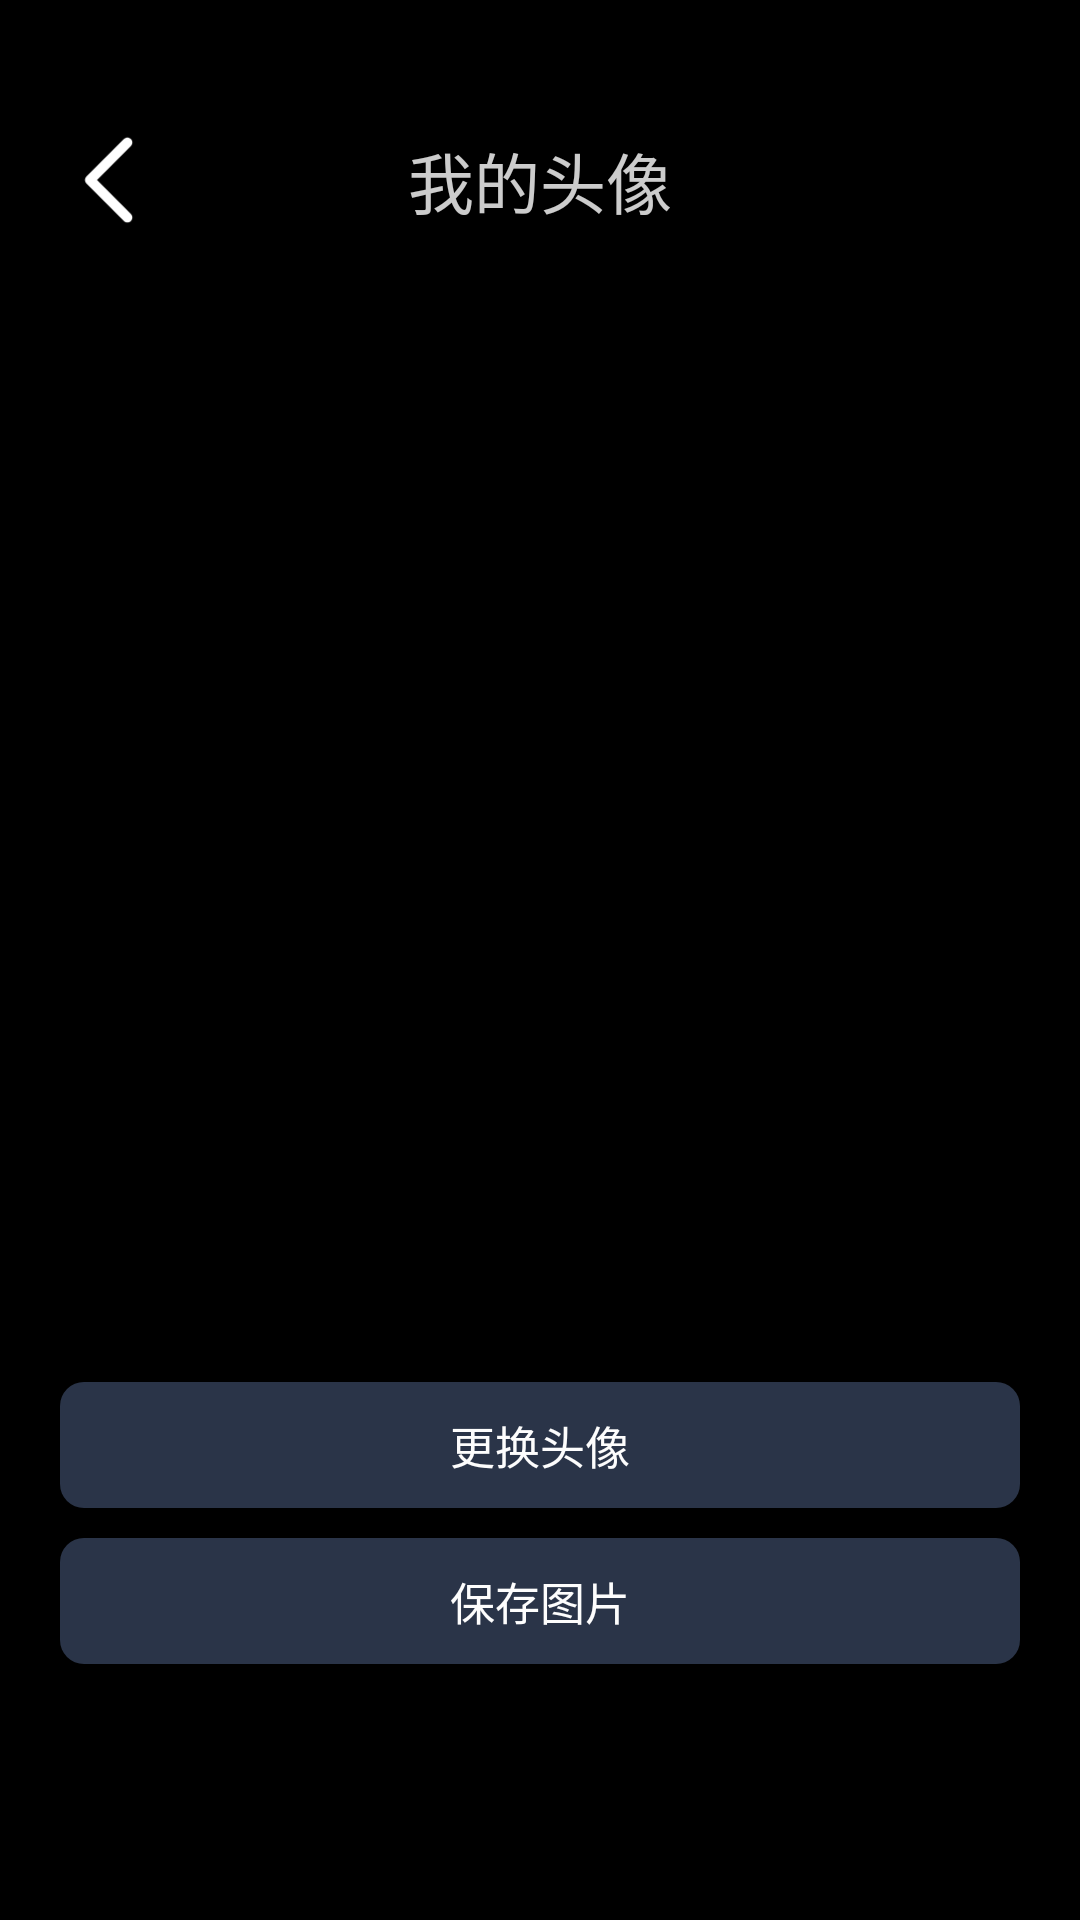

Named icons in this screenshot (1080 × 1920) and their bounding boxes, (x1, y1, x2, y2):
back: (84, 137, 133, 223)
